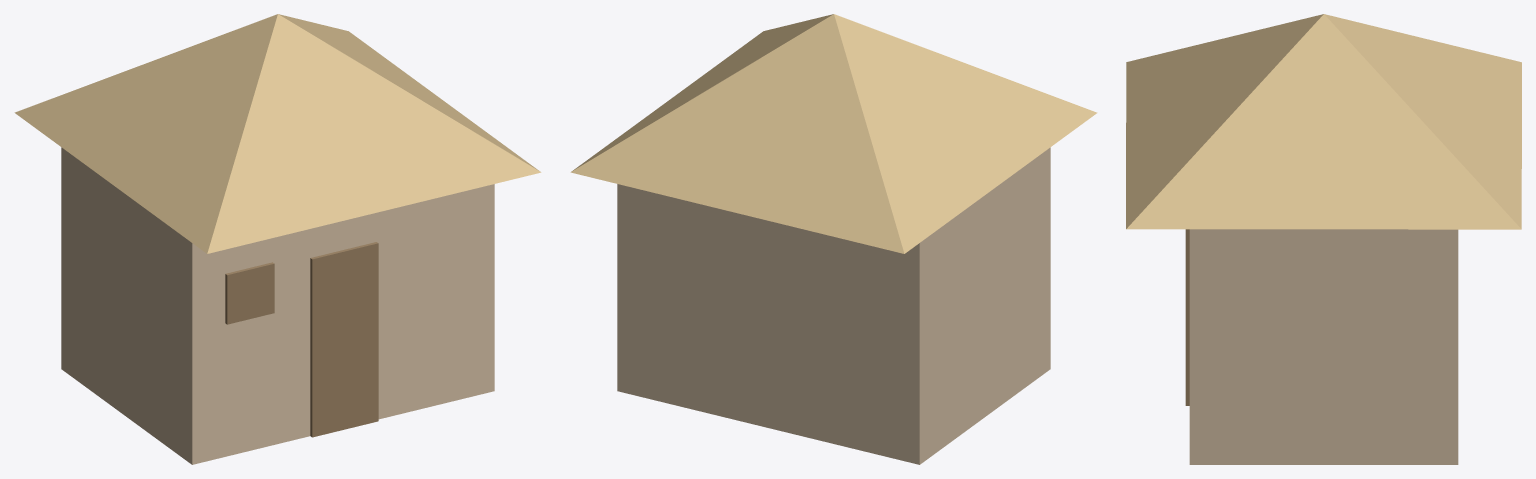
File: casataipa.glb
3 views of the same model, side by side, from view 1: azimuth 30°, elevation 25°; view 2: azimuth 150°, elevation 25°; view 3: azimuth 270°, elevation 25° (orthographic). The views are drawn at different scales.
Parts seen in each view (by area): view 1: CasaTaipa; view 2: CasaTaipa; view 3: CasaTaipa.
Part boxes in pixels (x1=…): CasaTaipa: x1=14, y1=14, x2=541, y2=464; CasaTaipa: x1=570, y1=14, x2=1097, y2=464; CasaTaipa: x1=1126, y1=14, x2=1521, y2=464.
Bounding box in the file's own units: 3.54 × 3.7 × 3.54.
